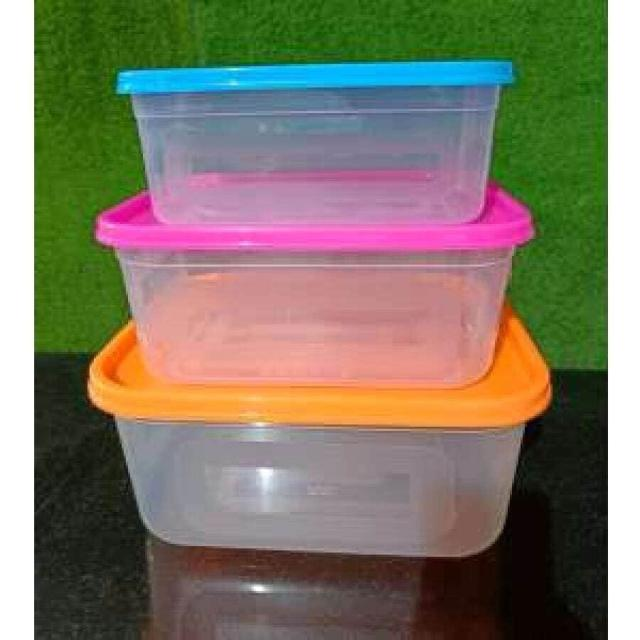plastic_box: (78, 347, 572, 570), (58, 183, 573, 390), (107, 33, 530, 222)
